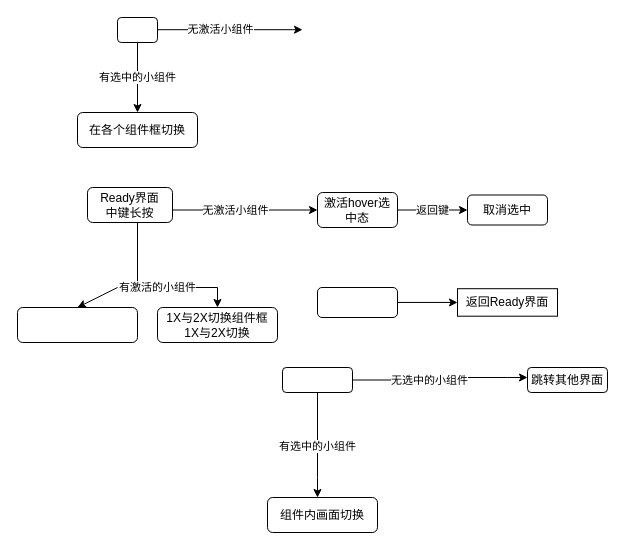
The diagram is 625 pixels wide and 550 high, and some of its shapes have lost their labels. The centre of each missing label's shape, as x and y in pixels:
其他界面 中键长按: the point at 357,302
别的组件框 无变化: the point at 77,324
单击: the point at 137,29
左转/右转: the point at 317,379
